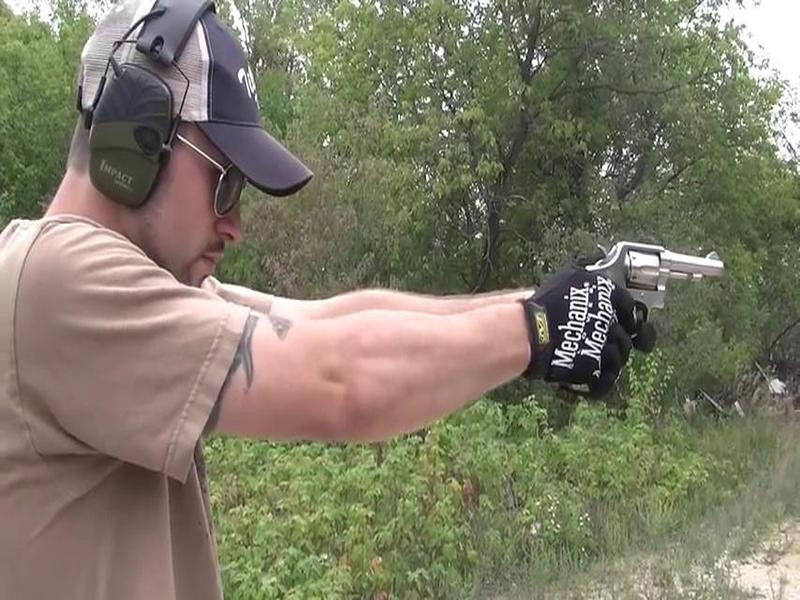Revolver: (548, 216, 733, 328)
